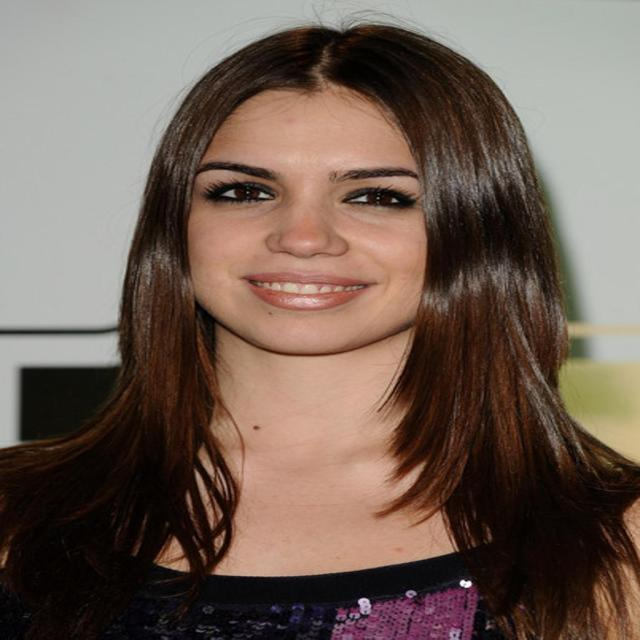Face: (181, 83, 452, 361)
